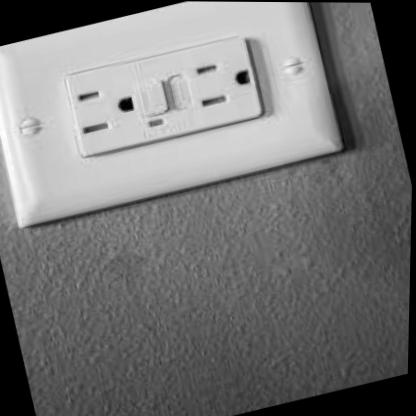OUTLET: (0, 0, 346, 230)
